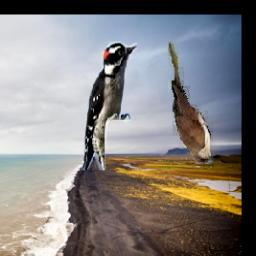Cuckoo: (169, 40, 214, 164)
Woodpecker: (81, 42, 137, 171)
